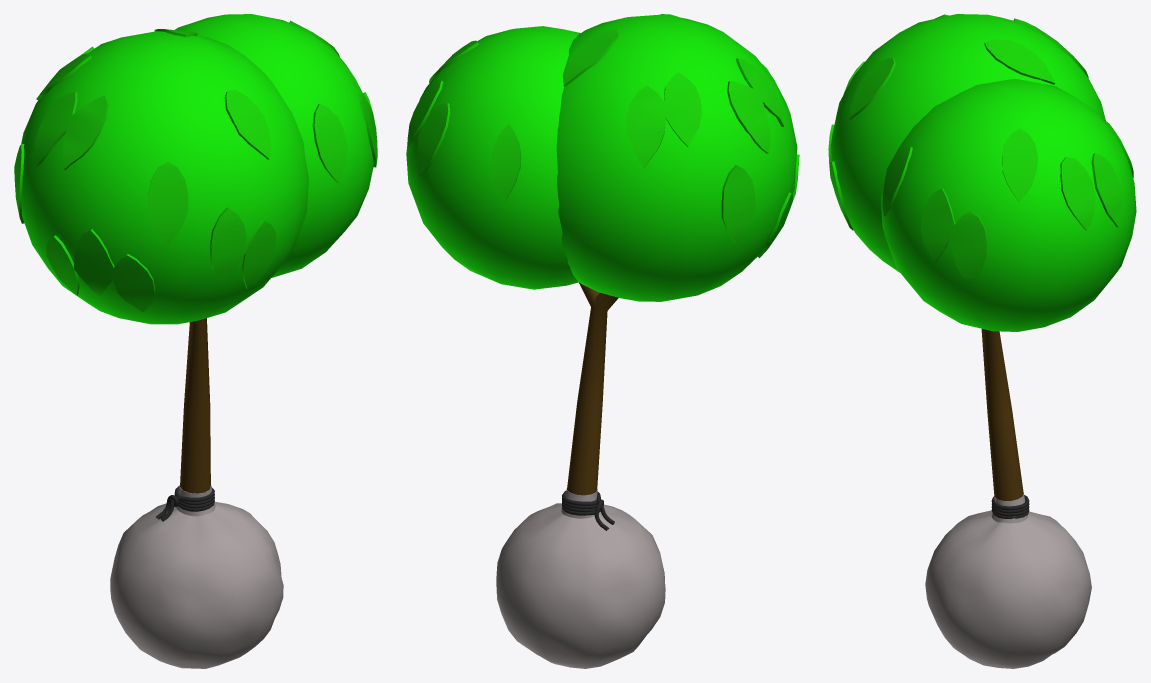
Rendered from Apple_sapling.fbx.
3 renders of one model, left to right at view 1: azimuth 30°, elevation 25°; view 2: azimuth 150°, elevation 25°; view 3: azimuth 270°, elevation 25°, orthographic. The views are drawn at different scales.
Visible parts, largest first — view 1: Apple_sapling; view 2: Apple_sapling; view 3: Apple_sapling.
Part boxes in pixels (bbox=[...]): Apple_sapling: bbox=[14, 14, 377, 668]; Apple_sapling: bbox=[406, 14, 799, 668]; Apple_sapling: bbox=[828, 14, 1136, 668].
Size of the model in its own units: 68.61 by 56.57 by 124.
